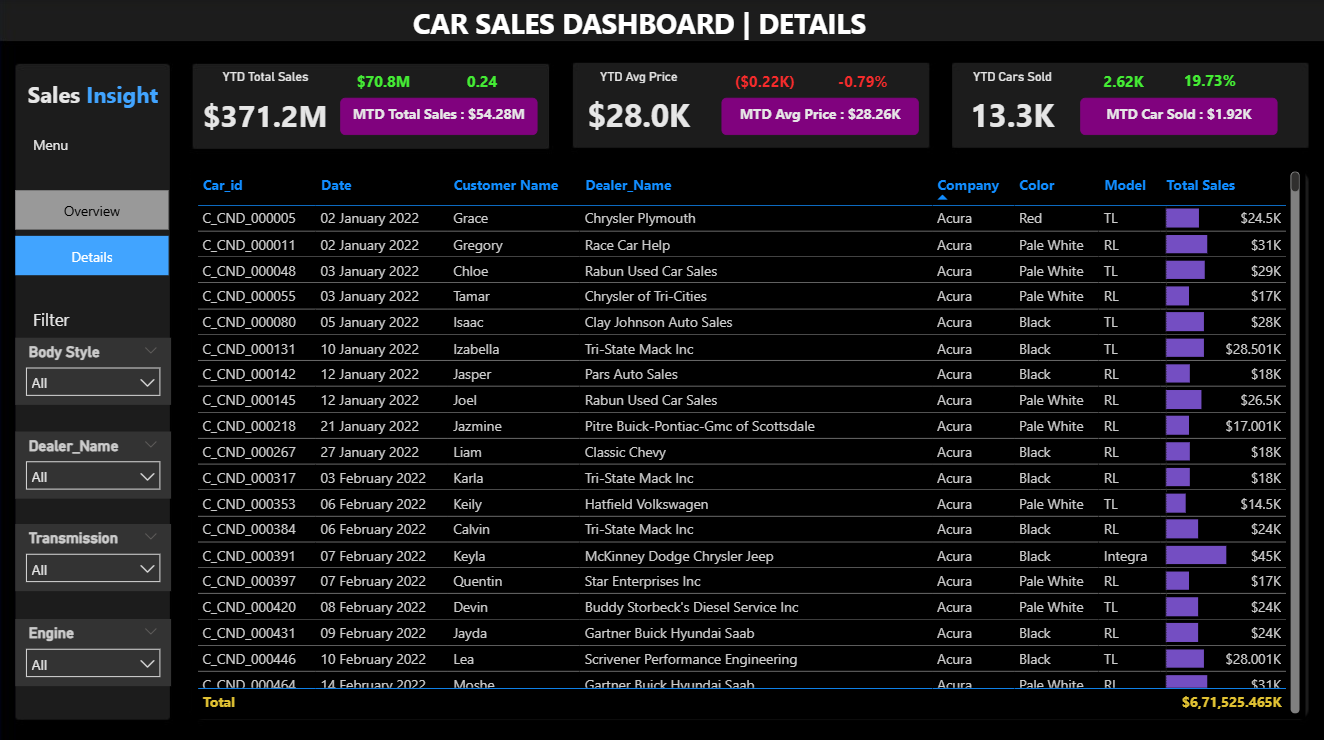

The dashboard page shown, as its layout file describes it:
{"tool":"powerbi","page":{"name":"Details","canvas":[1280,720],"ordinal":1},"visuals":[{"type":"card","title":"YTD Total Sales","fields":{"Values":["car_data.YTD Total Sales"]},"box":[186.1,67.8,142.8,76.5],"z":0},{"type":"card","fields":{"Values":["car_data.Sales Difference"]},"box":[329.6,67.9,84,27.2],"z":1000},{"type":"card","fields":{"Values":["car_data.YoY Sales Growth"]},"box":[424.2,67.8,83.7,27.4],"z":2000},{"type":"card","fields":{"Values":["car_data.MTD KPI"]},"box":[329.6,95.1,190.1,35.8],"z":3000},{"type":"card","title":"YTD Avg Price","fields":{"Values":["car_data.YTD Avg Price"]},"box":[552.6,67.8,129.8,76.5],"z":4000},{"type":"card","fields":{"Values":["car_data.Avg Price Diff"]},"box":[697.5,67.9,84,27.2],"z":5000},{"type":"card","fields":{"Values":["car_data.YOY Avg Price Growth"]},"box":[792.6,67.9,82.7,27.2],"z":6000},{"type":"card","fields":{"Values":["car_data.MTD Avg Price KPI"]},"box":[697.5,95.1,190.1,35.8],"z":7000},{"type":"card","title":"YTD Cars Sold","fields":{"Values":["car_data.YTD Cars Sold"]},"box":[913.6,67.9,129.6,76.5],"z":8000},{"type":"card","fields":{"Values":["car_data.Cars Sold Diff"]},"box":[1043.2,67.9,84,27.2],"z":9000},{"type":"card","fields":{"Values":["car_data.YOY Car Sold Growth"]},"box":[1127.2,63,84,37],"z":10000},{"type":"card","fields":{"Values":["car_data.MTD Car Sold KPI"]},"box":[1043.2,95.1,190.1,35.8],"z":11000},{"type":"textbox","box":[339,0,558.3,46.2],"z":12000},{"type":"slicer","fields":{"Values":["car_data.Body Style"]},"box":[15.9,327.5,150,64.9],"z":13000},{"type":"slicer","fields":{"Values":["car_data.Dealer_Name"]},"box":[15.9,417,150,64.9],"z":14000},{"type":"slicer","fields":{"Values":["car_data.Transmission"]},"box":[15.9,506.4,150,64.9],"z":15000},{"type":"slicer","fields":{"Values":["car_data.Engine"]},"box":[15.9,598.7,150,64.9],"z":16000},{"type":"textbox","box":[27.4,292.9,63.5,34.6],"z":17000},{"type":"tableEx","fields":{"Values":["car_data.Car_id","car_data.Date","car_data.Customer Name","car_data.Dealer_Name","car_data.Company","car_data.Color","car_data.Model","car_data.Total Sales"]},"box":[185.8,161.7,1074.9,533.2],"z":18000},{"type":"textbox","box":[27.4,127,54.8,34.6],"z":19000},{"type":"textbox","box":[15.9,72.1,150,40.4],"z":20000},{"type":"pageNavigator","box":[15.9,184.7,148.6,83.7],"z":21000}]}

Visuals, with their boxes on the page's 1280x720 design canvas (x1, y1, x2, y2). These are canvas units, not pixel positions in the 1324x740 screenshot, which may show the page scaled, cropped or inside an application window:
"YTD Total Sales" card: {"left": 186, "top": 68, "right": 329, "bottom": 144}
card - car_data.Sales Difference: {"left": 330, "top": 68, "right": 414, "bottom": 95}
card - car_data.YoY Sales Growth: {"left": 424, "top": 68, "right": 508, "bottom": 95}
card - car_data.MTD KPI: {"left": 330, "top": 95, "right": 520, "bottom": 131}
"YTD Avg Price" card: {"left": 553, "top": 68, "right": 682, "bottom": 144}
card - car_data.Avg Price Diff: {"left": 698, "top": 68, "right": 782, "bottom": 95}
card - car_data.YOY Avg Price Growth: {"left": 793, "top": 68, "right": 875, "bottom": 95}
card - car_data.MTD Avg Price KPI: {"left": 698, "top": 95, "right": 888, "bottom": 131}
"YTD Cars Sold" card: {"left": 914, "top": 68, "right": 1043, "bottom": 144}
card - car_data.Cars Sold Diff: {"left": 1043, "top": 68, "right": 1127, "bottom": 95}
card - car_data.YOY Car Sold Growth: {"left": 1127, "top": 63, "right": 1211, "bottom": 100}
card - car_data.MTD Car Sold KPI: {"left": 1043, "top": 95, "right": 1233, "bottom": 131}
textbox: {"left": 339, "top": 0, "right": 897, "bottom": 46}
slicer - car_data.Body Style: {"left": 16, "top": 328, "right": 166, "bottom": 392}
slicer - car_data.Dealer_Name: {"left": 16, "top": 417, "right": 166, "bottom": 482}
slicer - car_data.Transmission: {"left": 16, "top": 506, "right": 166, "bottom": 571}
slicer - car_data.Engine: {"left": 16, "top": 599, "right": 166, "bottom": 664}
textbox: {"left": 27, "top": 293, "right": 91, "bottom": 328}
tableEx - car_data.Car_id x car_data.Date: {"left": 186, "top": 162, "right": 1261, "bottom": 695}
textbox: {"left": 27, "top": 127, "right": 82, "bottom": 162}
textbox: {"left": 16, "top": 72, "right": 166, "bottom": 112}
pageNavigator: {"left": 16, "top": 185, "right": 164, "bottom": 268}
